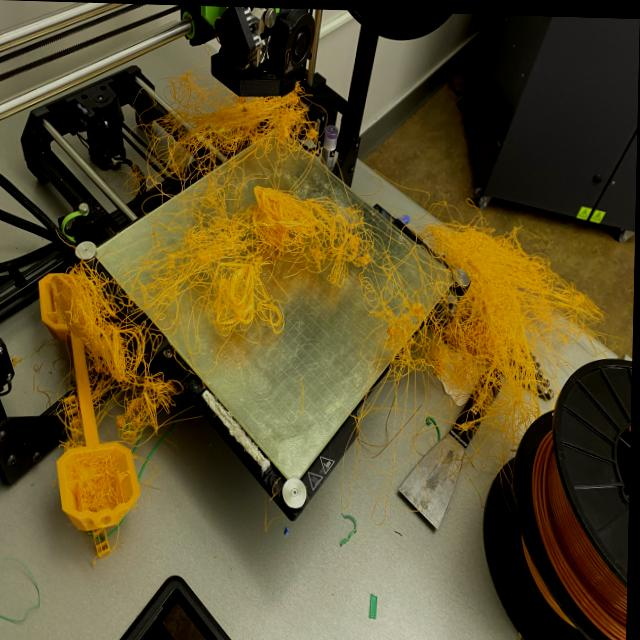spaghetti: (13, 70, 573, 532)
